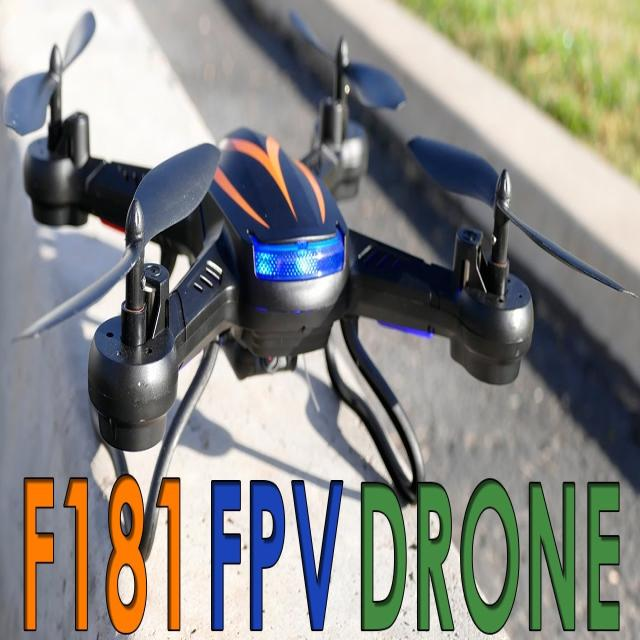drone: (0, 0, 589, 501)
